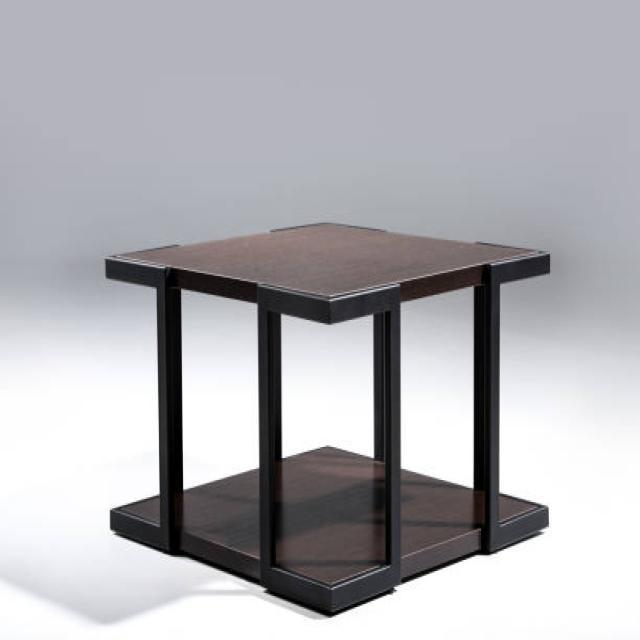table: (104, 219, 552, 616)
